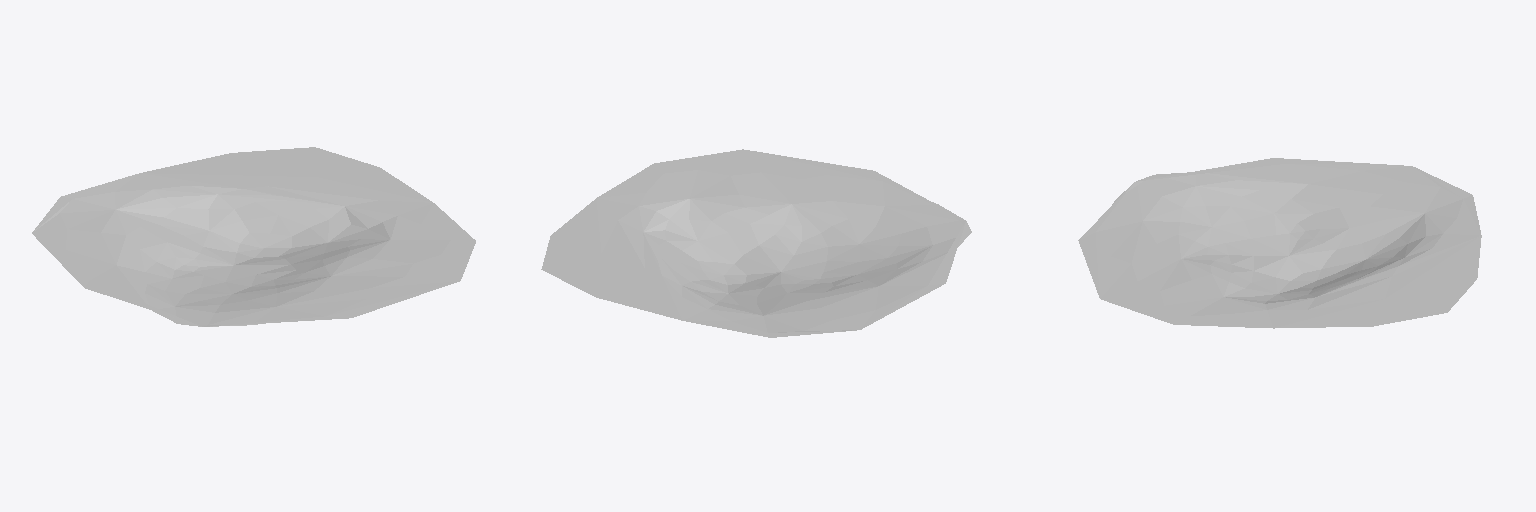
The model's file is Ground08.obj.
3 views of the same model, side by side, from view 1: azimuth 30°, elevation 25°; view 2: azimuth 150°, elevation 25°; view 3: azimuth 270°, elevation 25° (orthographic).
Visible parts, largest first — view 1: Plane_Plane.004; view 2: Plane_Plane.004; view 3: Plane_Plane.004.
Part boxes in pixels (x1,y1,x2,y2): Plane_Plane.004: (32,147,475,326); Plane_Plane.004: (541,149,971,337); Plane_Plane.004: (1078,158,1481,328).
Size of the model in its own units: 48.48 by 3.39 by 48.44.